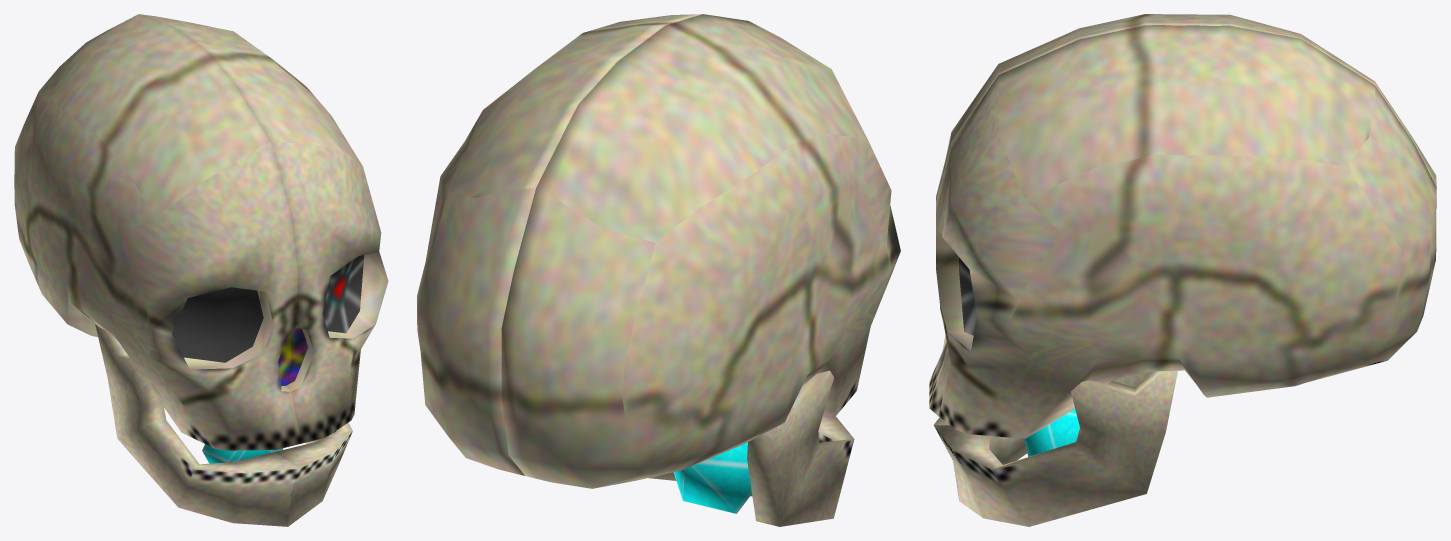
The model's file is Volador.obj.
The picture shows the model from 3 angles, left to right: view 1: azimuth 30°, elevation 25°; view 2: azimuth 150°, elevation 25°; view 3: azimuth 270°, elevation 25°; orthographic projection. The views are drawn at different scales.
Parts seen in each view (by area): view 1: Box002, Box001, Cylinder001; view 2: Box002, Box001, Cylinder001; view 3: Box002, Box001, Cylinder001.
Part boxes in pixels (box(x1,y1,x2,y2)): Box002: box(14, 14, 388, 450); Box001: box(95, 324, 352, 526); Cylinder001: box(202, 444, 283, 463); Box002: box(417, 14, 900, 488); Box001: box(648, 370, 854, 526); Cylinder001: box(673, 442, 751, 513); Box002: box(929, 14, 1436, 438); Box001: box(933, 370, 1177, 526); Cylinder001: box(1023, 409, 1079, 456).
Size of the model in its own units: 0.8317 by 1.34 by 1.29.
Materials: 3 (3 with a texture image).
